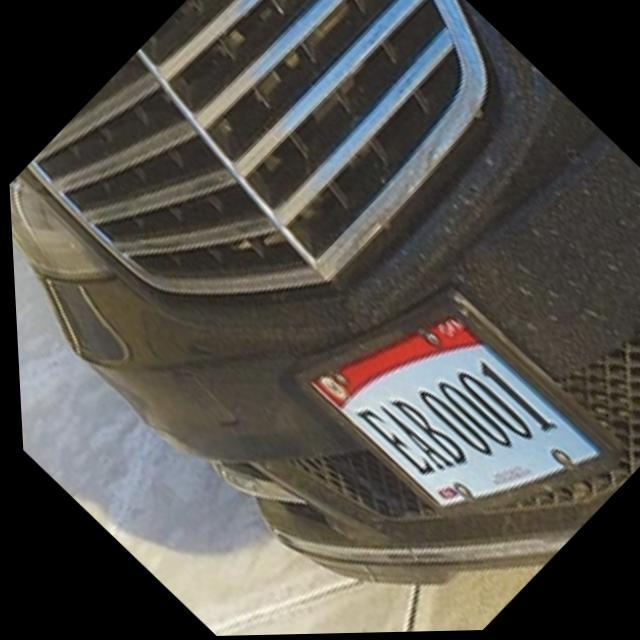license_plate: (292, 271, 587, 561)
